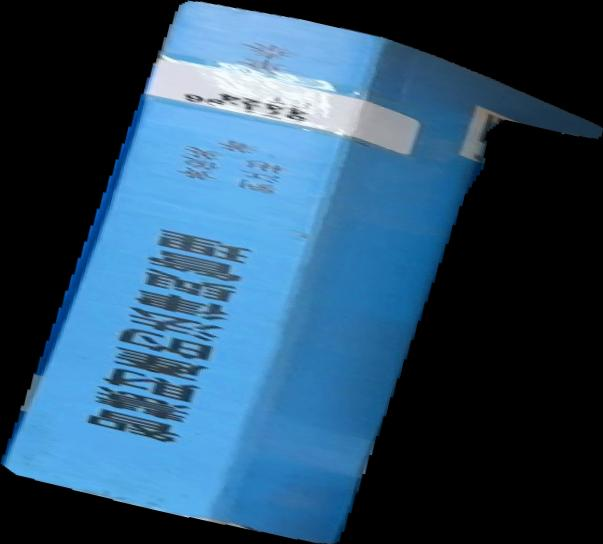reverse: (1, 1, 603, 544)
